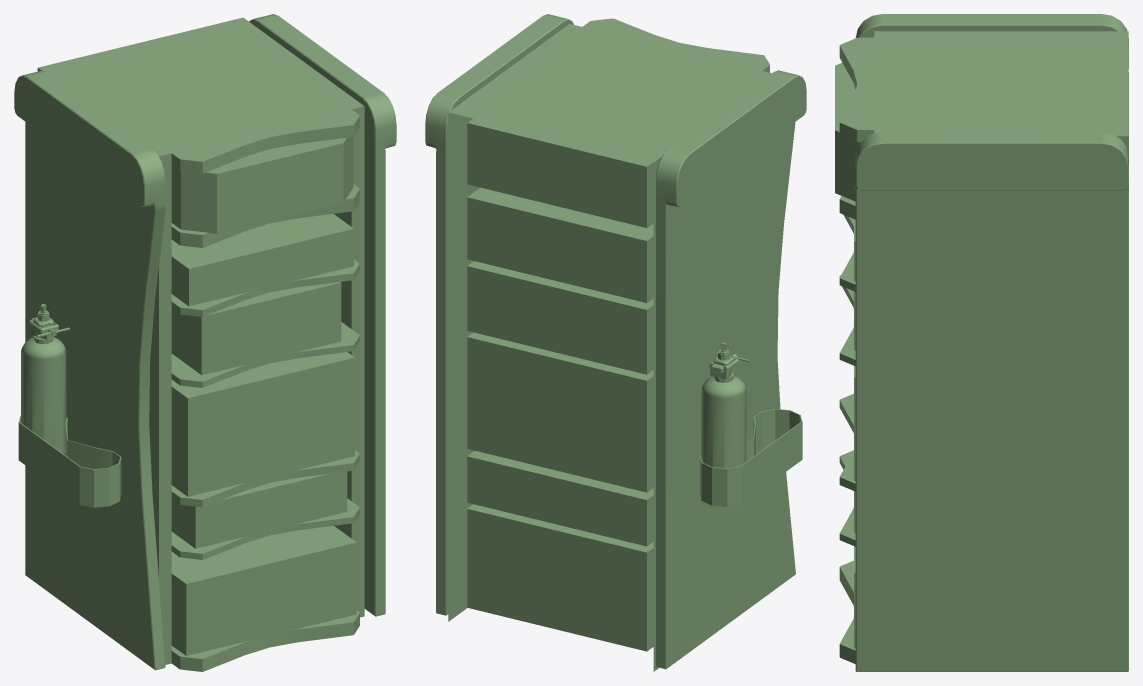
Rendered from MonitorCart 1.fbx.
3 views of the same model, side by side, from view 1: azimuth 30°, elevation 25°; view 2: azimuth 150°, elevation 25°; view 3: azimuth 270°, elevation 25° (orthographic). The views are drawn at different scales.
Visible parts, largest first — view 1: monitorcart1; view 2: monitorcart1; view 3: monitorcart1.
Part boxes in pixels (left/top/right/bottom): monitorcart1: left=14, top=14, right=396, bottom=671; monitorcart1: left=425, top=14, right=806, bottom=671; monitorcart1: left=835, top=14, right=1128, bottom=671.
Size of the model in its own units: 15.36 by 26.77 by 13.18.
